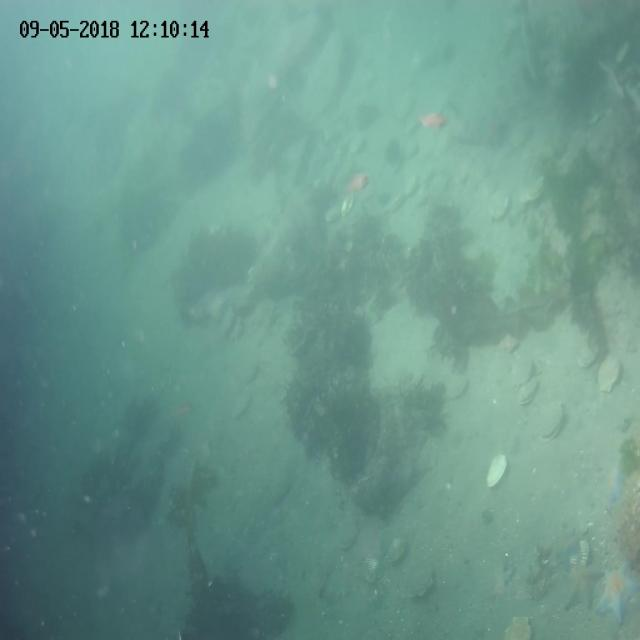scallop: (538, 400, 566, 444), (483, 451, 509, 491), (404, 567, 437, 598), (598, 353, 622, 394), (502, 614, 536, 640), (334, 517, 360, 550), (360, 551, 383, 587), (488, 195, 514, 222), (516, 380, 541, 408), (388, 534, 409, 566), (510, 361, 536, 386), (230, 394, 254, 421), (509, 122, 533, 148), (526, 176, 548, 202), (446, 374, 468, 399), (498, 335, 522, 355), (237, 363, 258, 384), (576, 346, 596, 368), (394, 99, 416, 119), (403, 140, 420, 162), (414, 166, 434, 184), (340, 194, 354, 218), (324, 206, 343, 223), (415, 187, 431, 206), (403, 176, 417, 196), (350, 137, 365, 155)
starfish: (593, 557, 640, 624), (561, 557, 607, 615), (605, 458, 628, 505)
